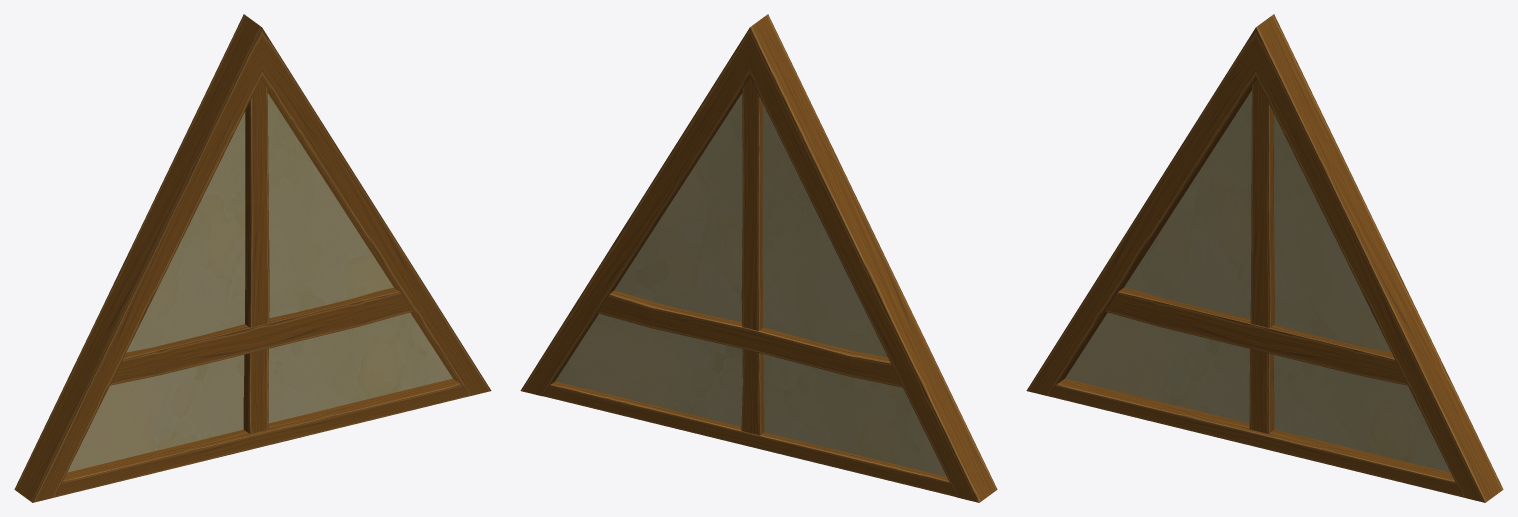
File: SM_House_Roof_02_Wall_Top.fbx
3 renders of one model, left to right at view 1: azimuth 30°, elevation 25°; view 2: azimuth 150°, elevation 25°; view 3: azimuth 330°, elevation 25°, orthographic.
Visible parts, largest first — view 1: SM_House_Roof_02_Wall_Tap; view 2: SM_House_Roof_02_Wall_Tap; view 3: SM_House_Roof_02_Wall_Tap.
Part boxes in pixels (bbox=[...]): SM_House_Roof_02_Wall_Tap: bbox=[14, 14, 491, 502]; SM_House_Roof_02_Wall_Tap: bbox=[520, 14, 997, 502]; SM_House_Roof_02_Wall_Tap: bbox=[1026, 14, 1503, 502].
Size of the model in its own units: 5.84 by 5.1 by 0.4024.
